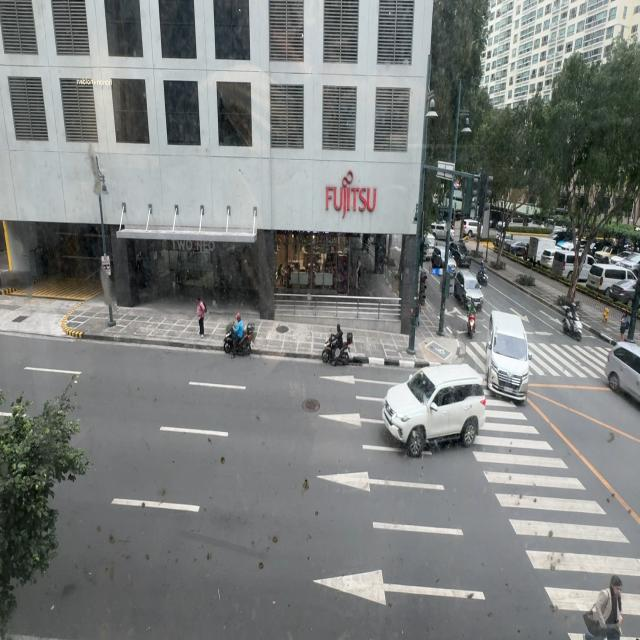crossing: (584, 562, 628, 640)
pedestrain: (197, 297, 208, 339)
waiting: (621, 313, 630, 339)
